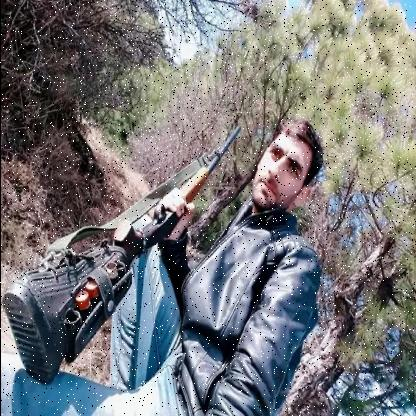rifle: (0, 122, 242, 390)
